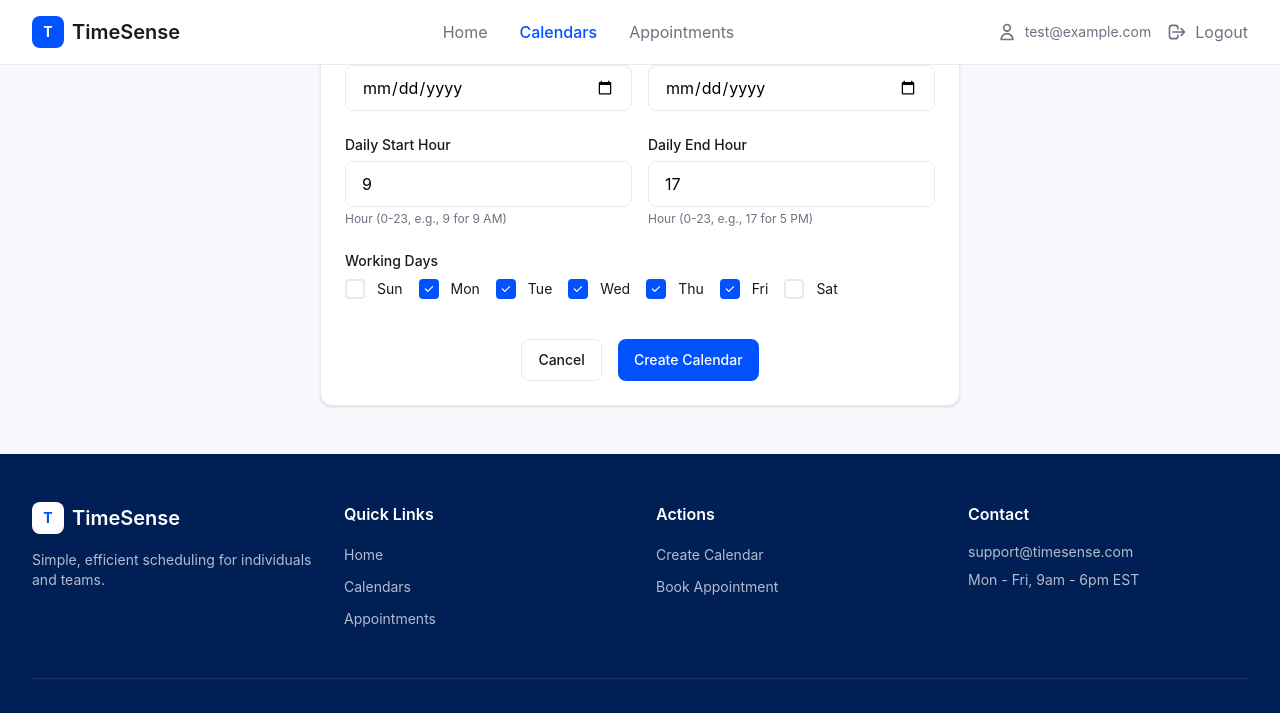
Test: New Calendar Page › Authenticated User › Form Validation › should show error when liveAt is empty
This screenshot has width=1280, height=713.
(page scrolled)
Click the button with test id "create-calendar-button": x=689, y=360 618,339 -> 759,381
(page scrolled)
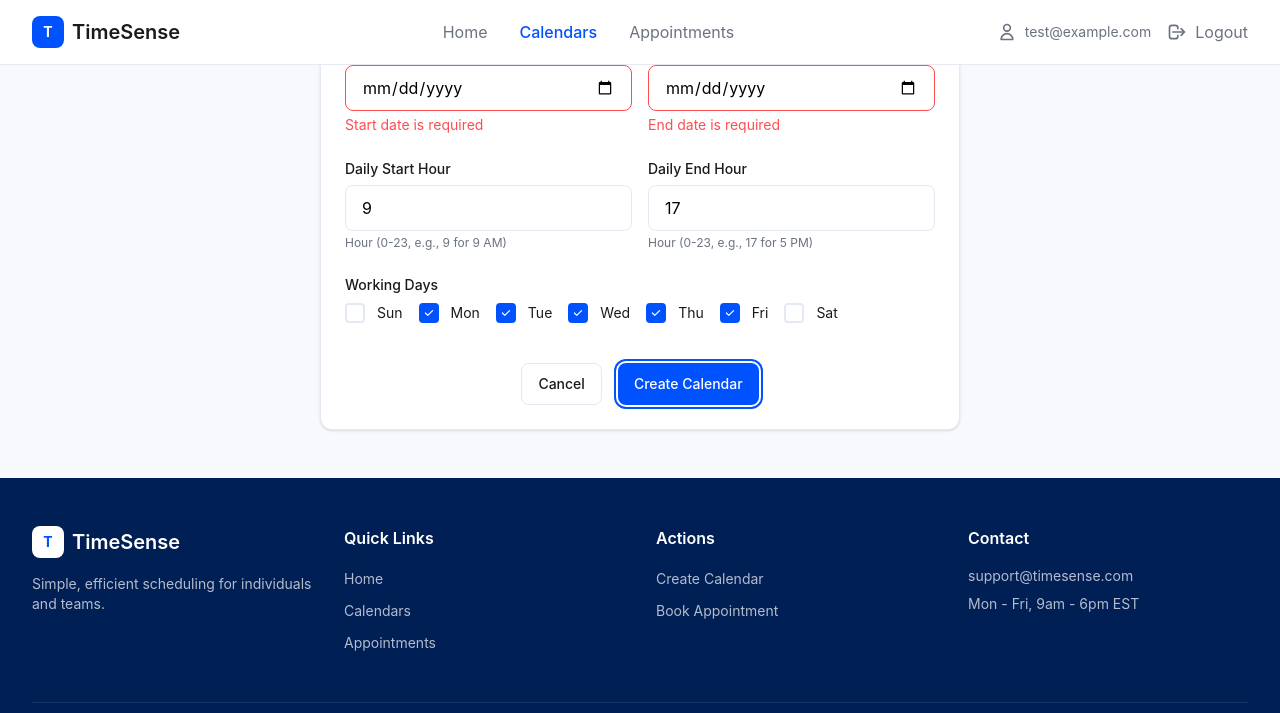
Result: the text with test id "liveAt-error" reads "Start date is required" at 345,116 -> 483,133
